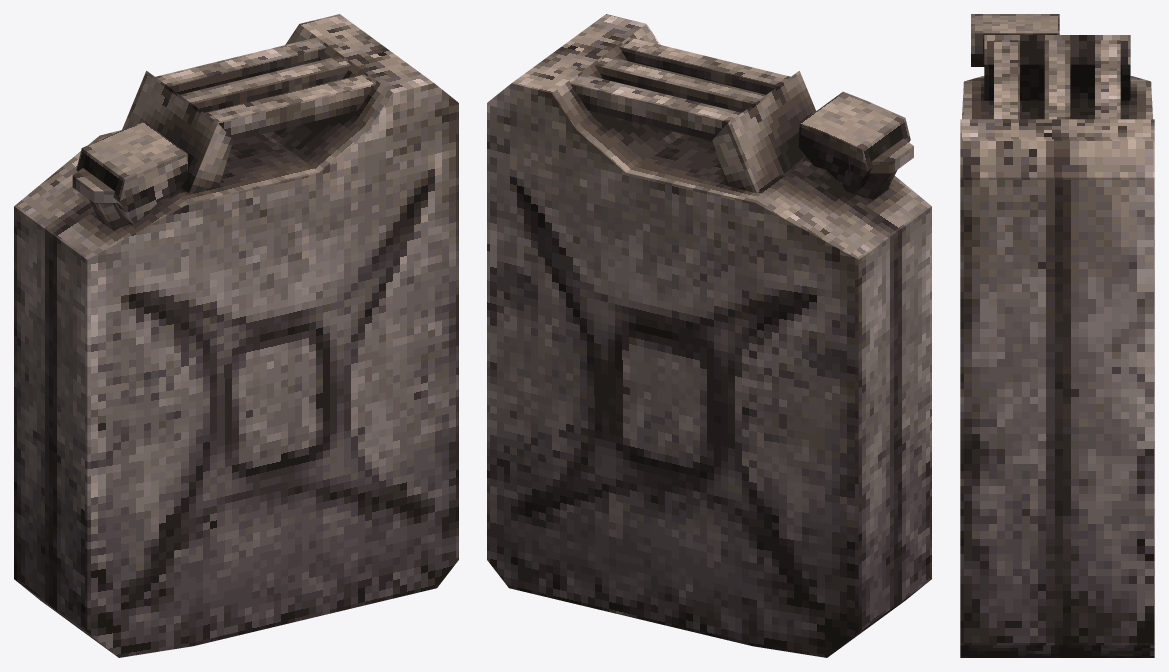
Rendered from jerry_can_white.glb.
The picture shows the model from 3 angles, left to right: view 1: azimuth 30°, elevation 25°; view 2: azimuth 150°, elevation 25°; view 3: azimuth 270°, elevation 25°; orthographic projection. The views are drawn at different scales.
Visible parts, largest first — view 1: JerryCan; view 2: JerryCan; view 3: JerryCan.
Part boxes in pixels (x1,y1,x2,y2): JerryCan: [14, 14, 458, 657]; JerryCan: [487, 14, 931, 657]; JerryCan: [960, 14, 1154, 657].
Size of the model in its own units: 0.3412 by 0.4584 by 0.1552.
Materials: 1 (1 with a texture image).
